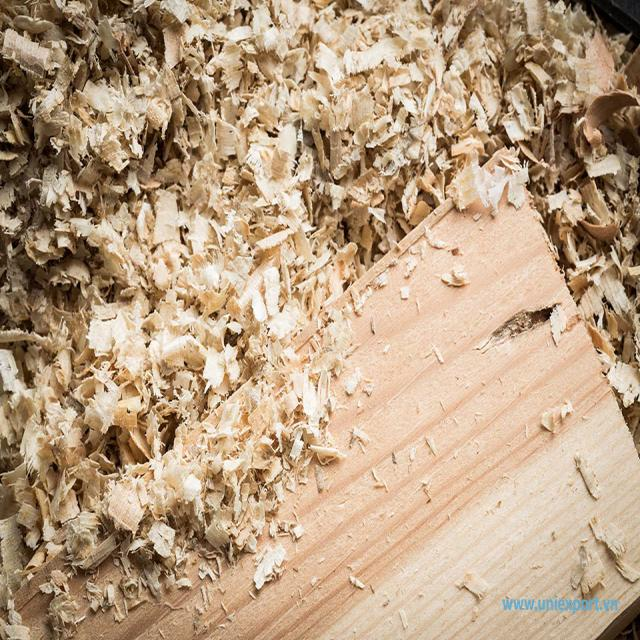green waste: (3, 3, 637, 640)
